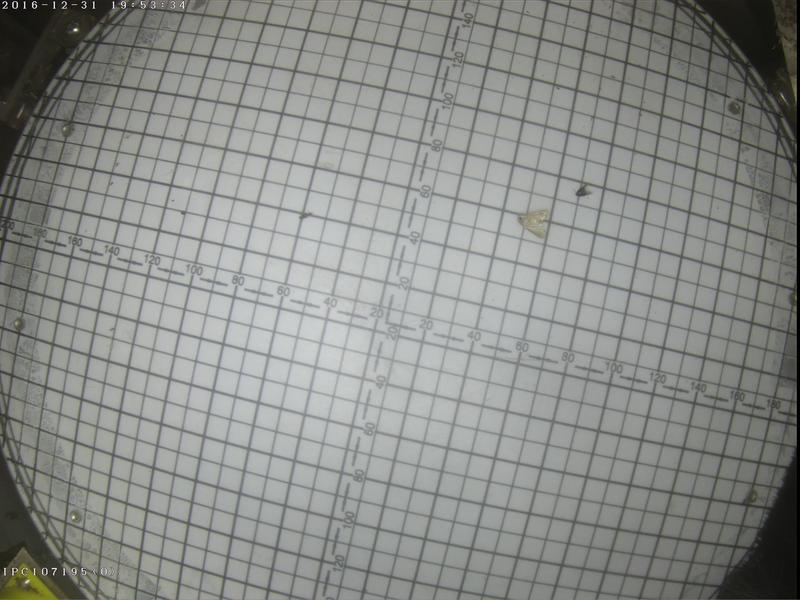Stem borer: (515, 205, 548, 238)
